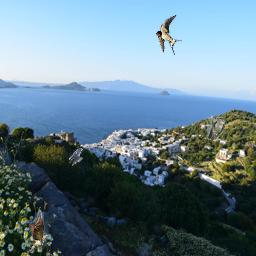Cuckoo: (16, 212, 49, 252)
Swallow: (156, 15, 182, 55), (207, 117, 225, 140), (69, 148, 83, 166)
